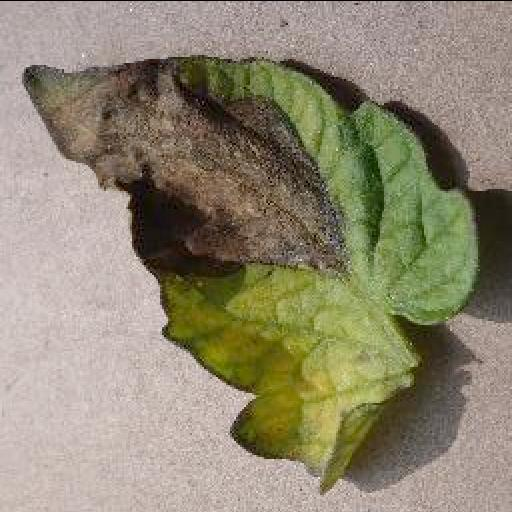disease_tomato: (18, 50, 474, 492)
